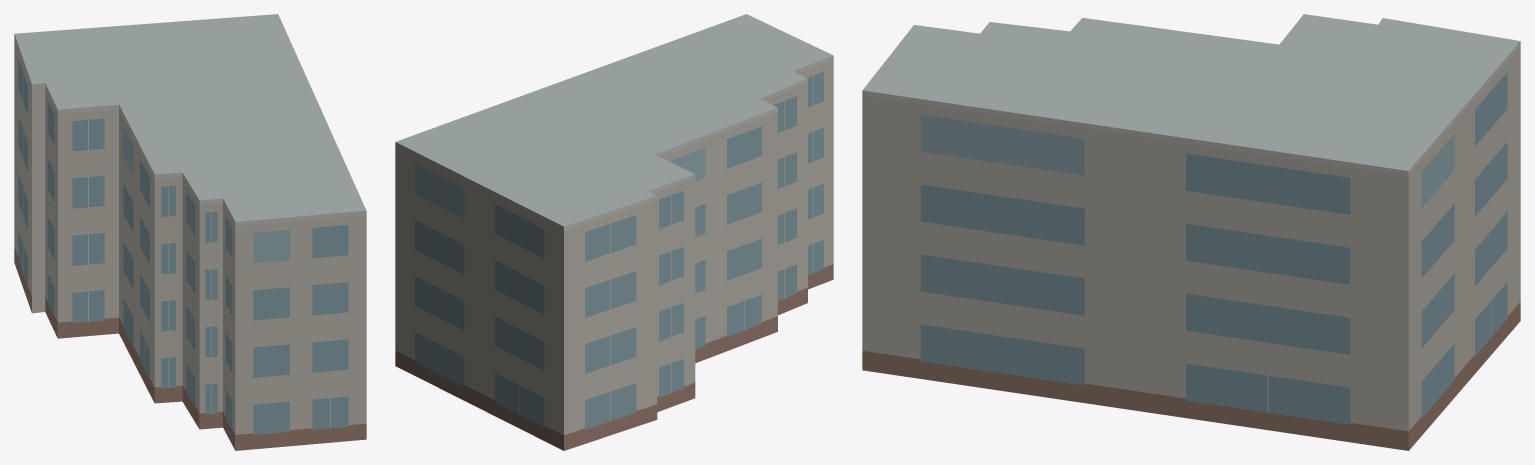
The model's file is survey-upis-32603578.glb.
The picture shows the model from 3 angles, left to right: view 1: azimuth 30°, elevation 25°; view 2: azimuth 150°, elevation 25°; view 3: azimuth 270°, elevation 25°; orthographic projection. The views are drawn at different scales.
Parts seen in each view (by area): view 1: survey-upis-32603578.tmp; view 2: survey-upis-32603578.tmp; view 3: survey-upis-32603578.tmp.
Part boxes in pixels (x1=…): survey-upis-32603578.tmp: x1=14, y1=14, x2=366, y2=450; survey-upis-32603578.tmp: x1=395, y1=14, x2=833, y2=450; survey-upis-32603578.tmp: x1=862, y1=14, x2=1520, y2=450.
Bounding box in the file's own units: 15.41 × 12.8 × 27.29.
